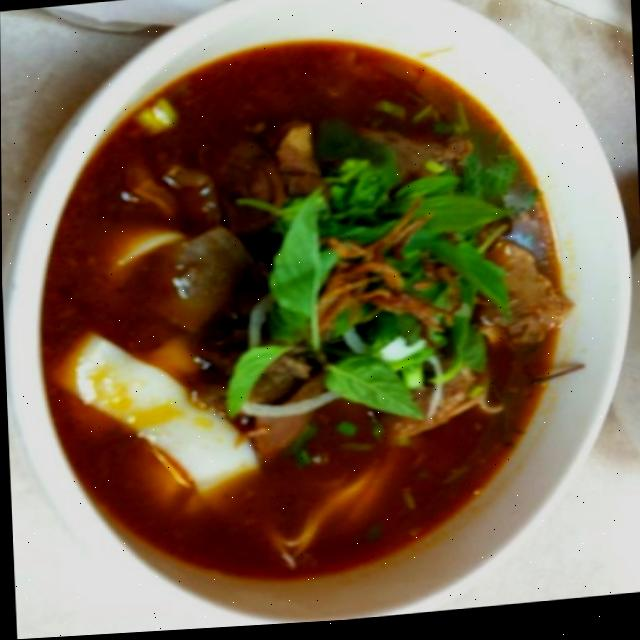面条主食: (2, 20, 588, 601)
